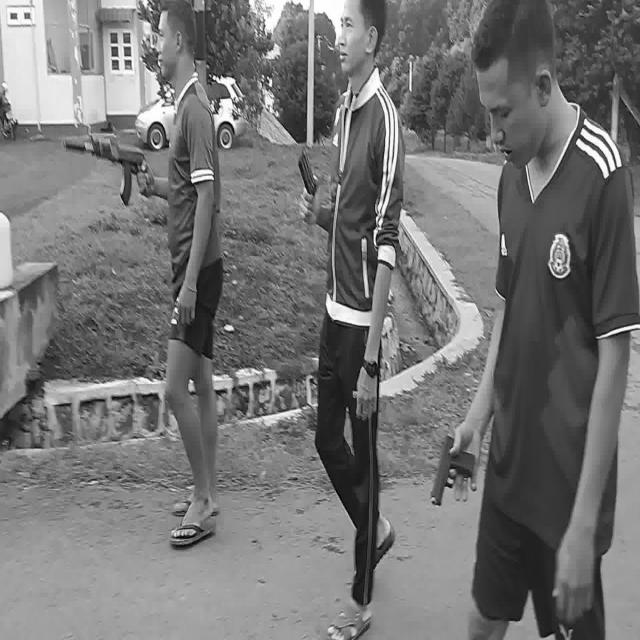gun: (62, 134, 148, 205), (431, 435, 474, 502)
